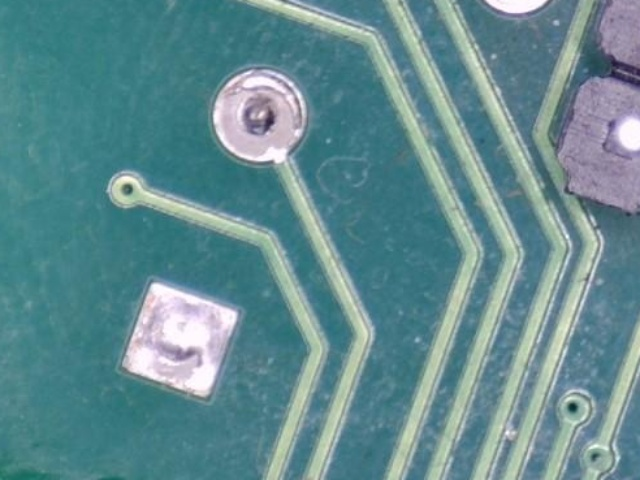pcb_defect: (212, 68, 308, 163)
